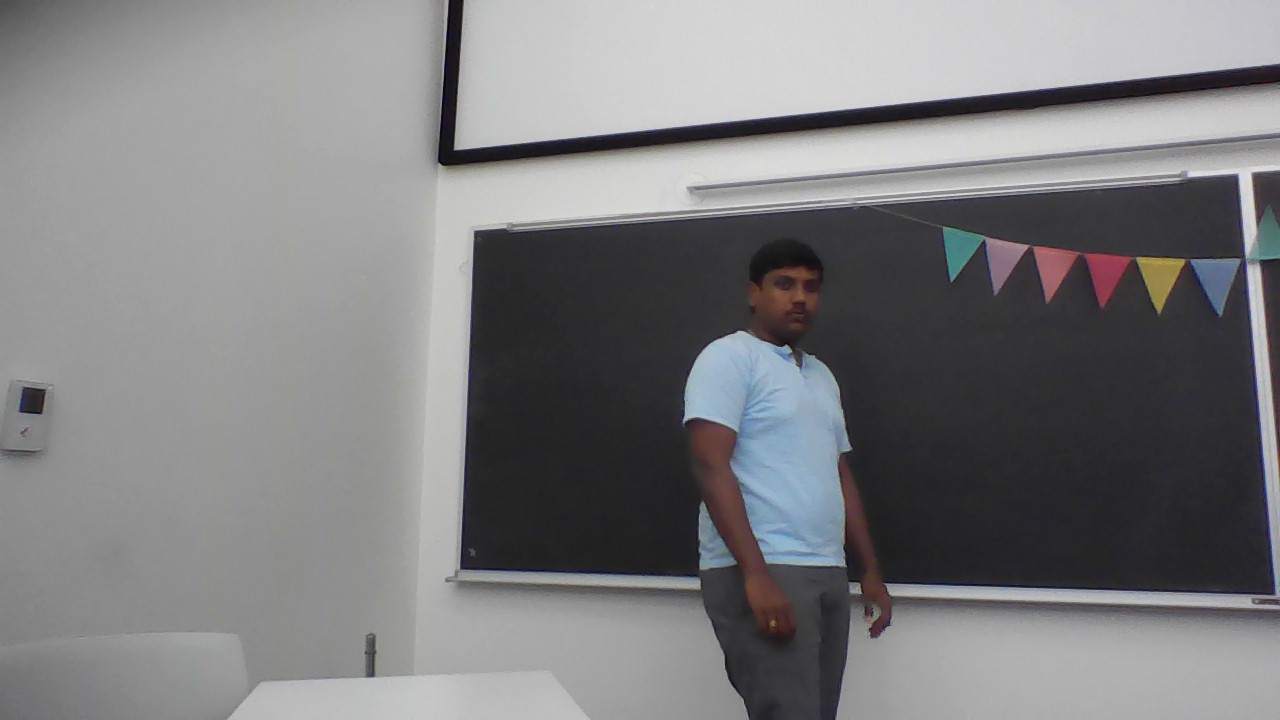height_frame: (661, 231, 907, 714)
hip_frame: (697, 560, 848, 587)
shoulder_frame: (707, 340, 836, 373)
waist_frame: (707, 498, 848, 520)
